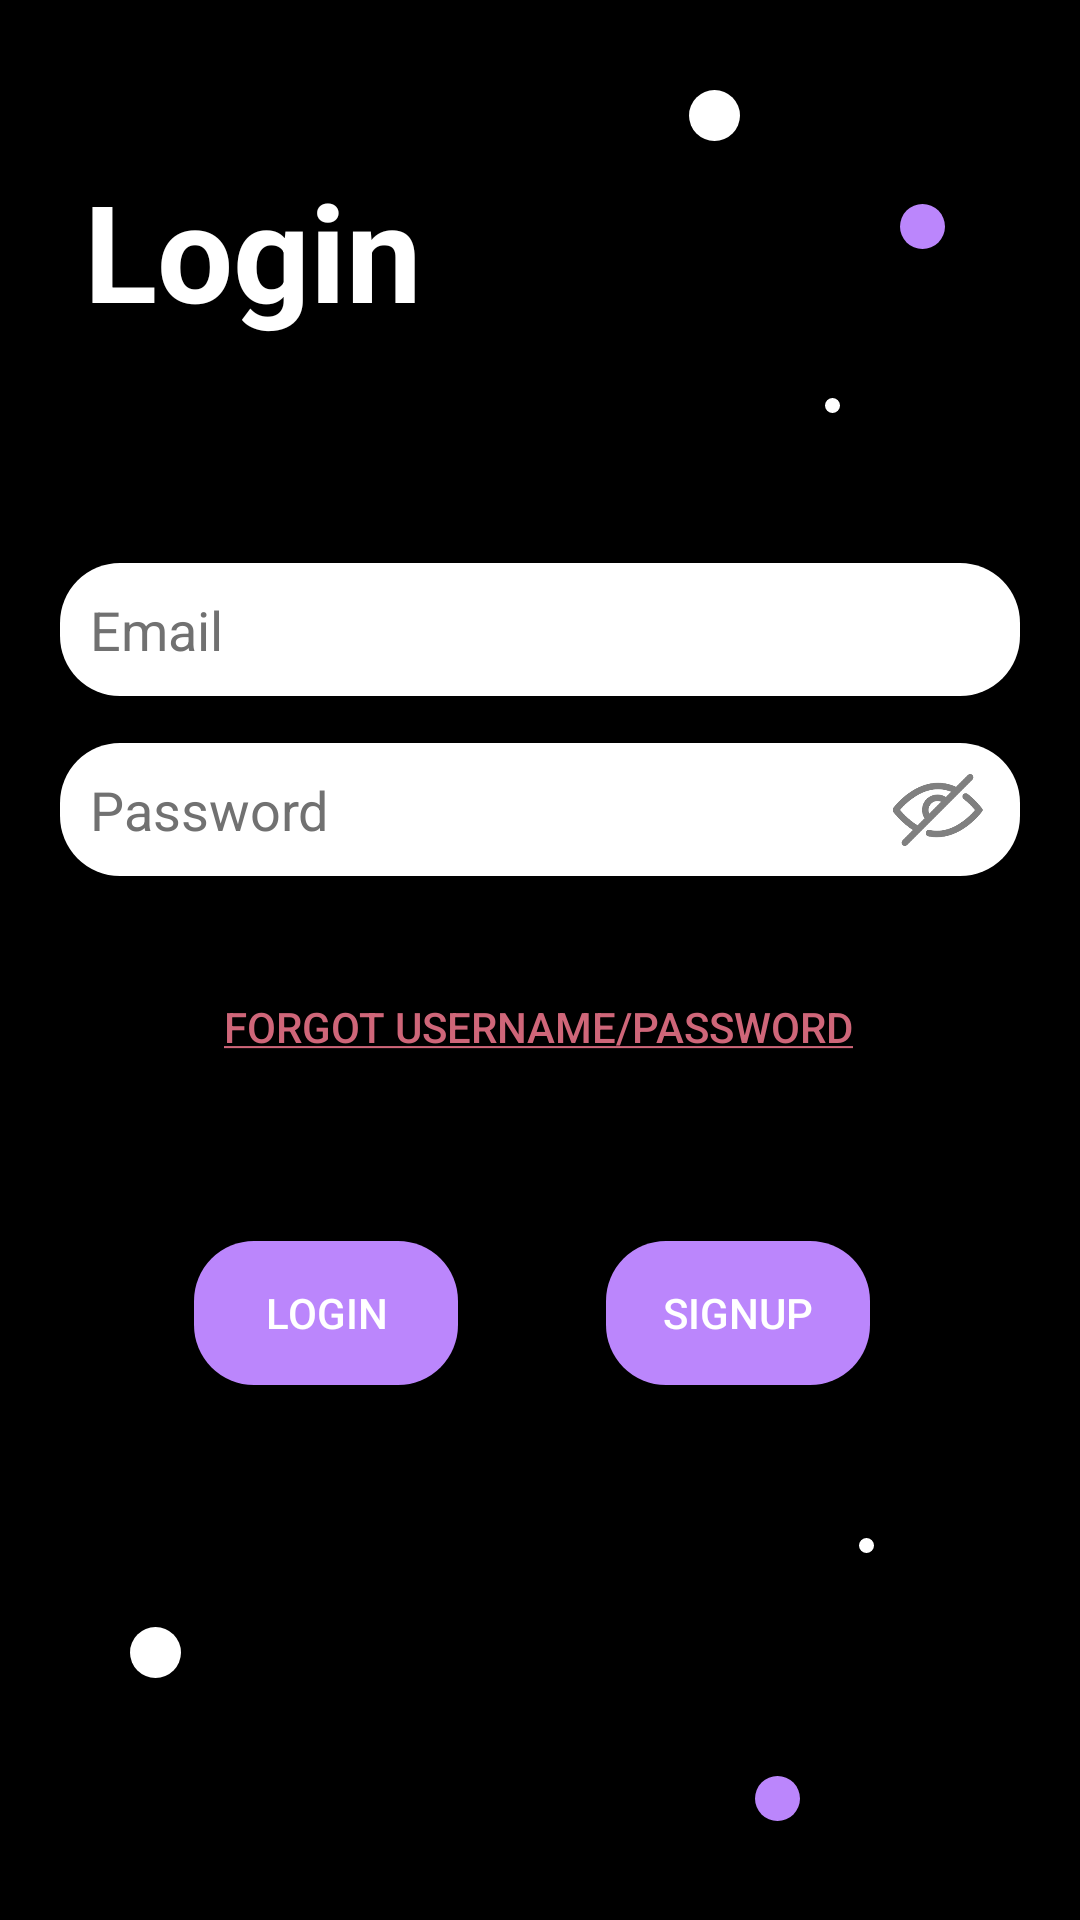

Named icons in this screenshot (1080×1920) and their bounding boxes, (x1, y1, x2, y2):
showhide: (893, 774, 983, 846)
